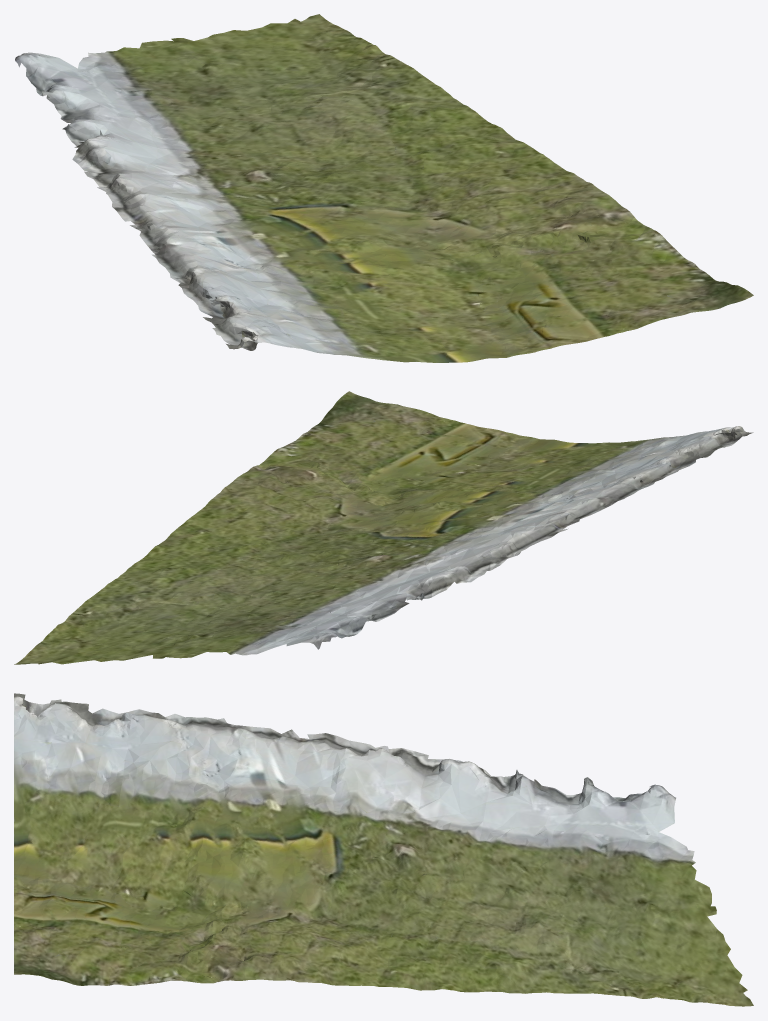
3 renders of one model, top to bottom at view 1: azimuth 30°, elevation 25°; view 2: azimuth 150°, elevation 25°; view 3: azimuth 270°, elevation 25°, orthographic. The views are drawn at different scales.
Bounding box in the file's own units: 4.23 × 0.9006 × 6.07.
Materials: 1 (1 with a texture image).
